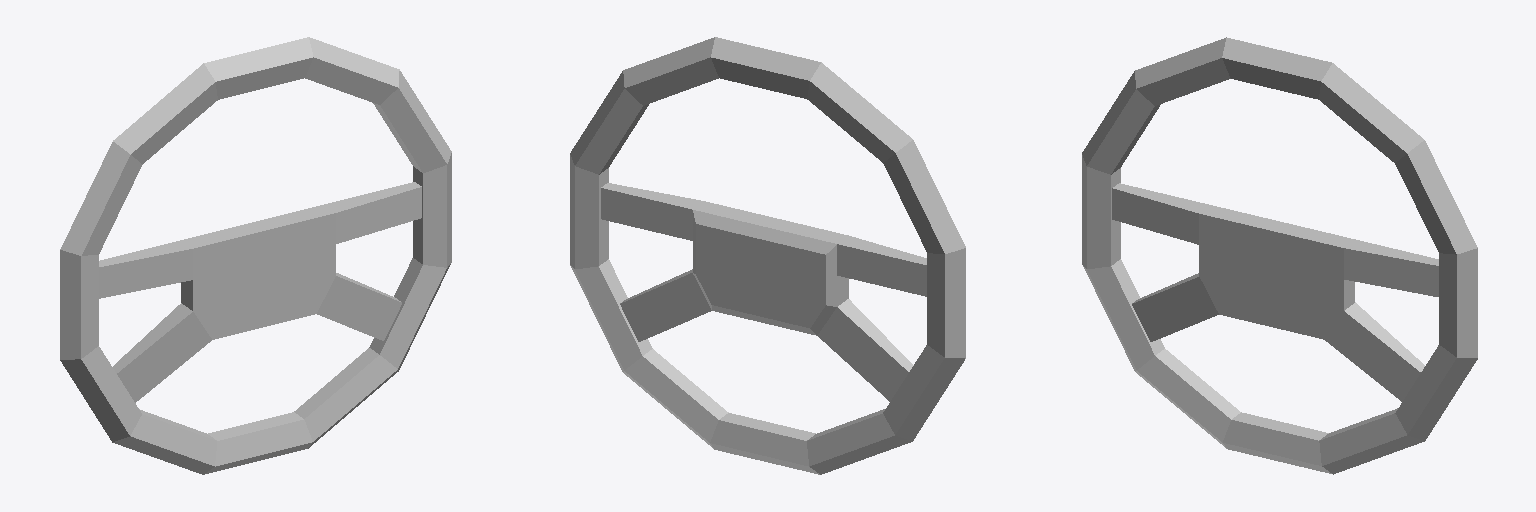
Rendered from volante.obj.
3 renders of one model, left to right at view 1: azimuth 30°, elevation 25°; view 2: azimuth 150°, elevation 25°; view 3: azimuth 330°, elevation 25°, orthographic.
Visible parts, largest first — view 1: INT_WHEEL.002; view 2: INT_WHEEL.002; view 3: INT_WHEEL.002.
Boxes of the visible parts, <box> form: INT_WHEEL.002: <box>60,37,451,474</box>; INT_WHEEL.002: <box>570,37,965,474</box>; INT_WHEEL.002: <box>1082,37,1477,474</box>.
Bounding box in the file's own units: 0.508 × 0.508 × 0.0417.